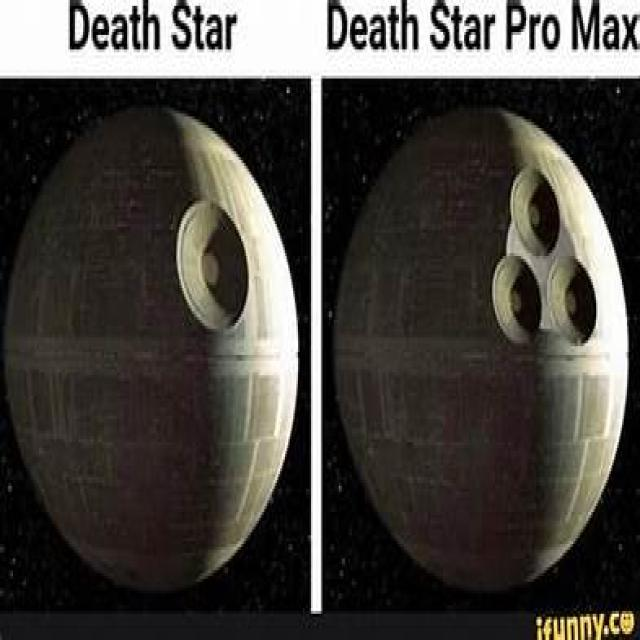deathStar: (330, 108, 630, 612), (4, 106, 299, 590)
